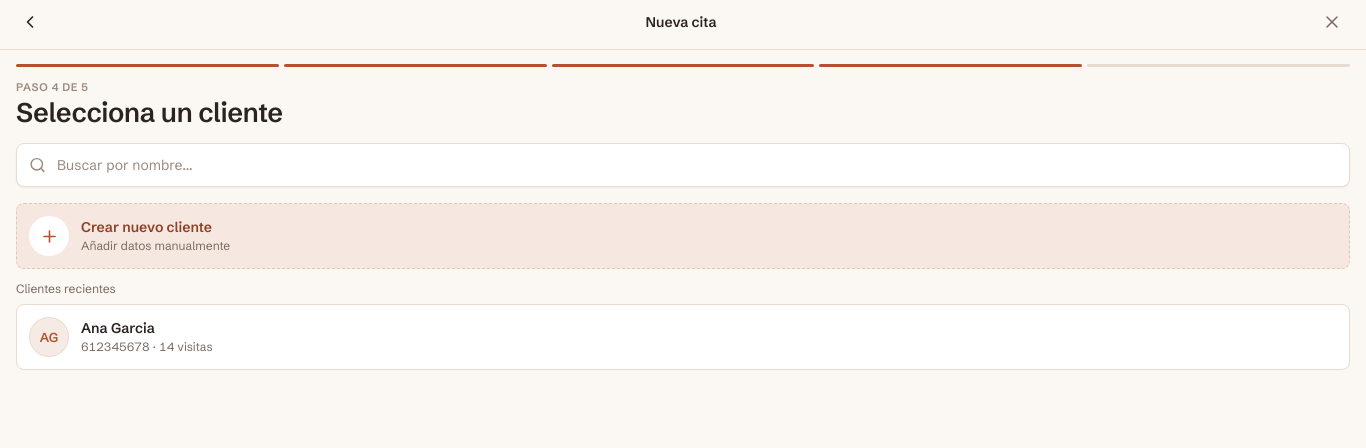
Test case: ClientStep › alta de cliente en linea › con nombre y apellidos completos, 'Continuar' se habilita
Click the button "Crear nuevo cliente Añadir datos manualmente" at (49, 236), box [16,203,1350,269]
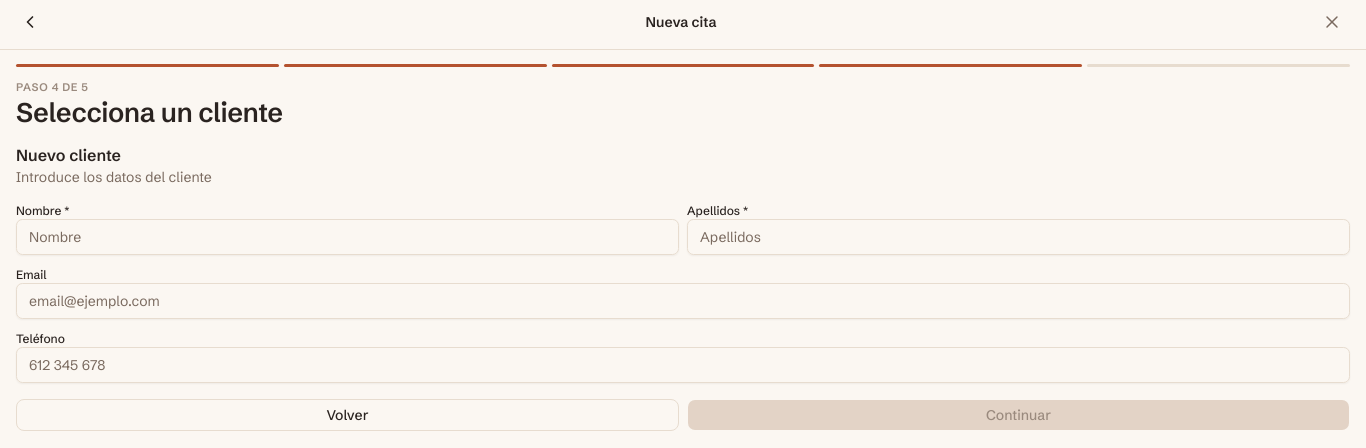
Check: the button "Continuar" is disabled, box [687,399,1350,431]
Type "Fernando" into the field labelled "Nombre *" at (348, 237), box [16,219,679,255]
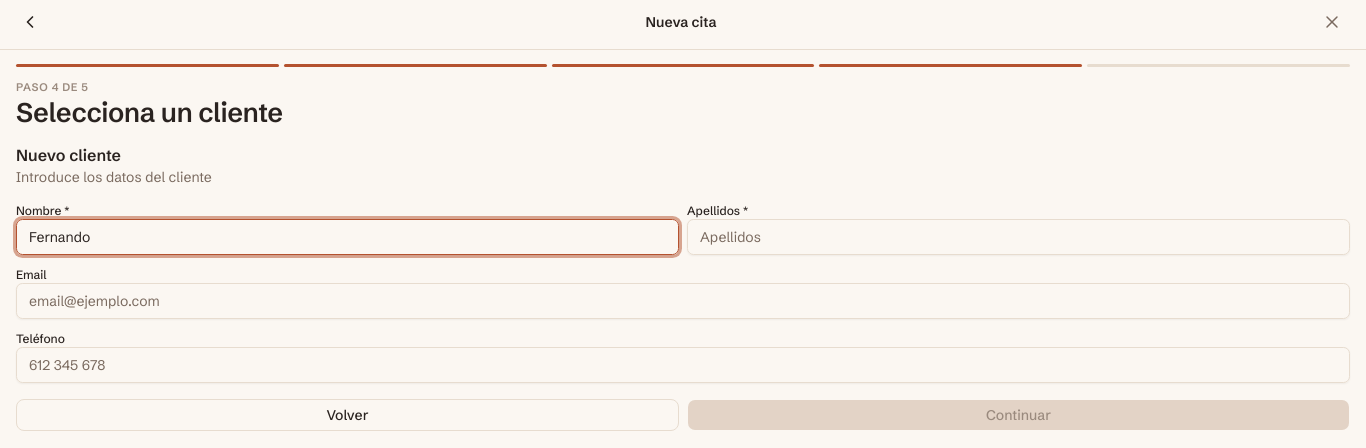
Check: the button "Continuar" is disabled, box [687,399,1350,431]
Type "Perez" into the field labelled "Apellidos *" at (1018, 237), box [687,219,1350,255]
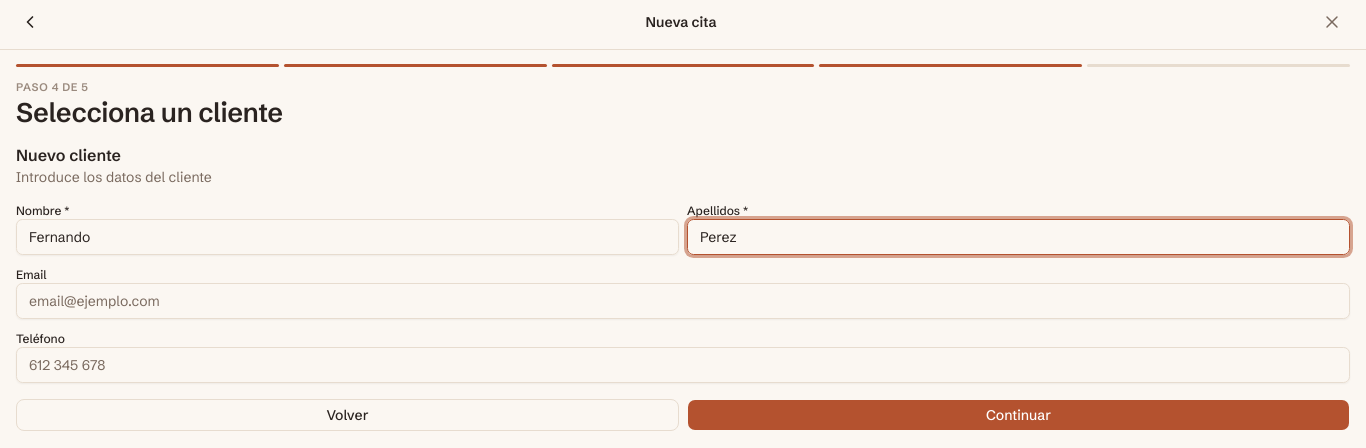
Check: the button "Continuar" is enabled, box [687,399,1350,431]
